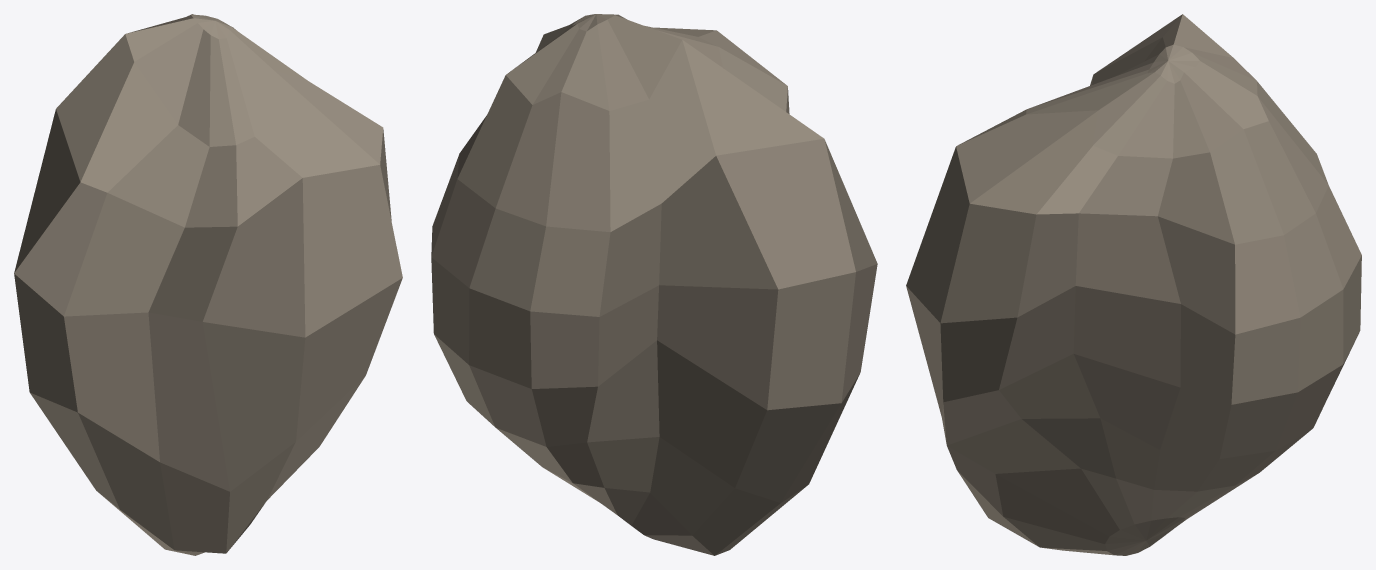
File: rock 4.fbx
3 renders of one model, left to right at view 1: azimuth 30°, elevation 25°; view 2: azimuth 150°, elevation 25°; view 3: azimuth 270°, elevation 25°, orthographic. The views are drawn at different scales.
Visible parts, largest first — view 1: rock big; view 2: rock big; view 3: rock big.
Part boxes in pixels (left/top/right/bottom): rock big: left=14, top=14, right=402, bottom=555; rock big: left=431, top=14, right=877, bottom=555; rock big: left=906, top=14, right=1361, bottom=555.
Bounding box in the file's own units: 291 × 409 × 317.
